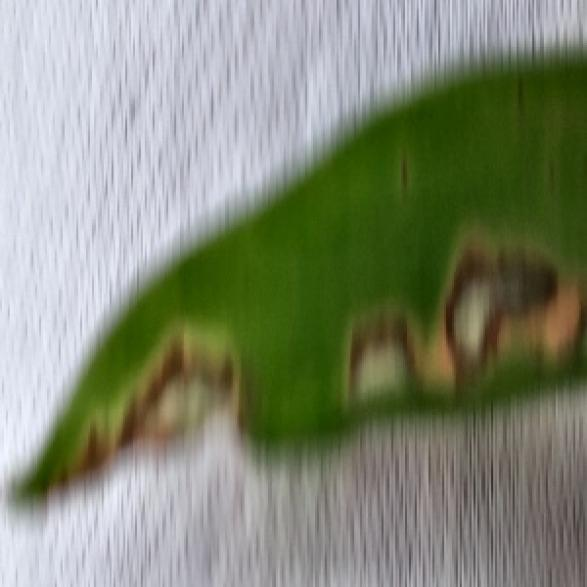Leaf_smut: (311, 243, 585, 412)
